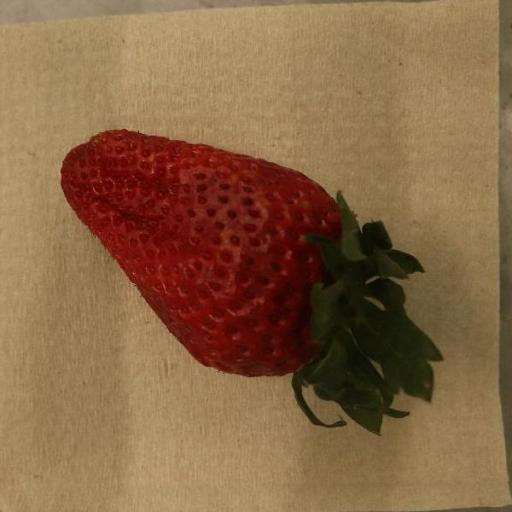Strawberry: (61, 130, 447, 437)
